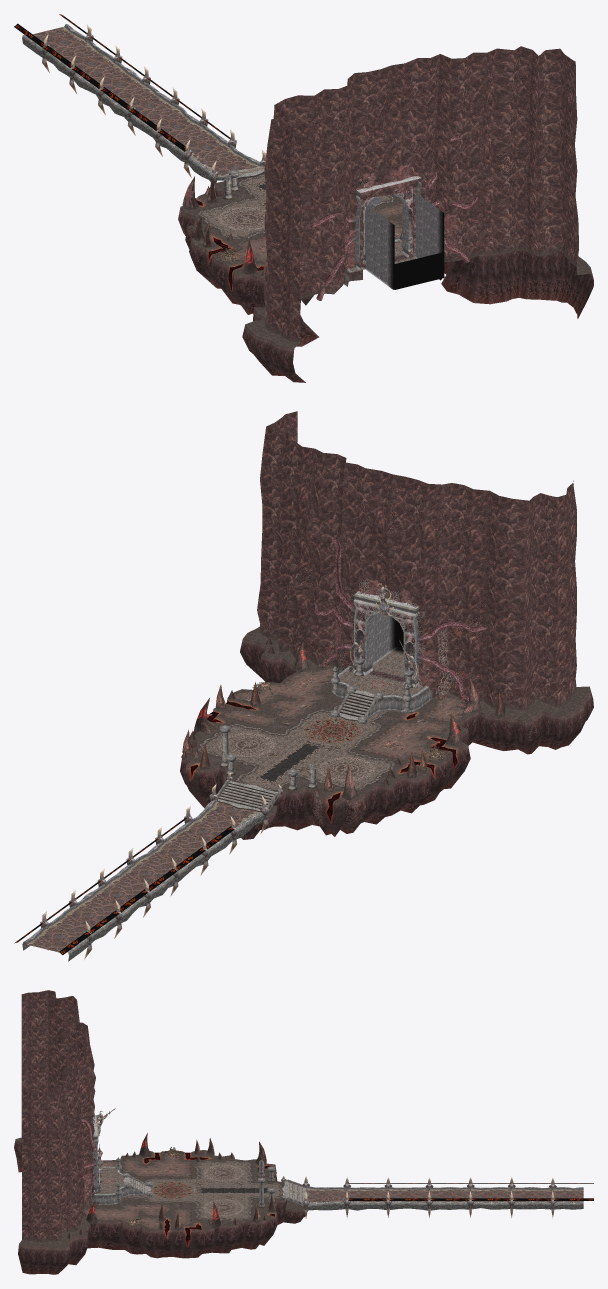
Rendered from anterose.gltf.
3 renders of one model, top to bottom at view 1: azimuth 30°, elevation 25°; view 2: azimuth 150°, elevation 25°; view 3: azimuth 270°, elevation 25°, orthographic. The views are drawn at different scales.
Visible parts, largest first — view 1: mesh_CD3DFile_Mesh (×64); view 2: mesh_CD3DFile_Mesh (×77); view 3: mesh_CD3DFile_Mesh (×60).
Part boxes in pixels (x1=…): mesh_CD3DFile_Mesh (×64): x1=14, y1=14, x2=588, y2=362; mesh_CD3DFile_Mesh (×77): x1=14, y1=418, x2=585, y2=954; mesh_CD3DFile_Mesh (×60): x1=18, y1=990, x2=593, y2=1274.
Bounding box in the file's own units: 53.47 × 39.82 × 113.
24 materials, 24 textured.
